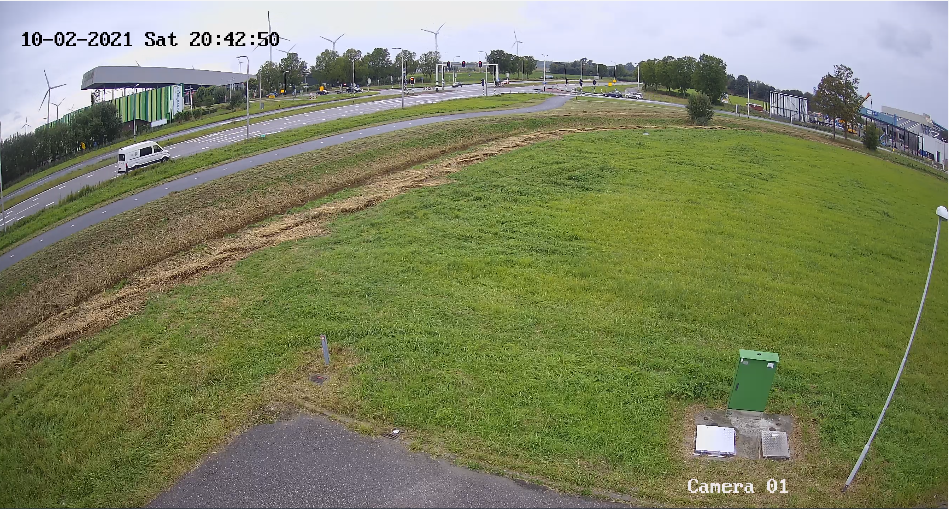werkbus: (115, 132, 170, 180)
